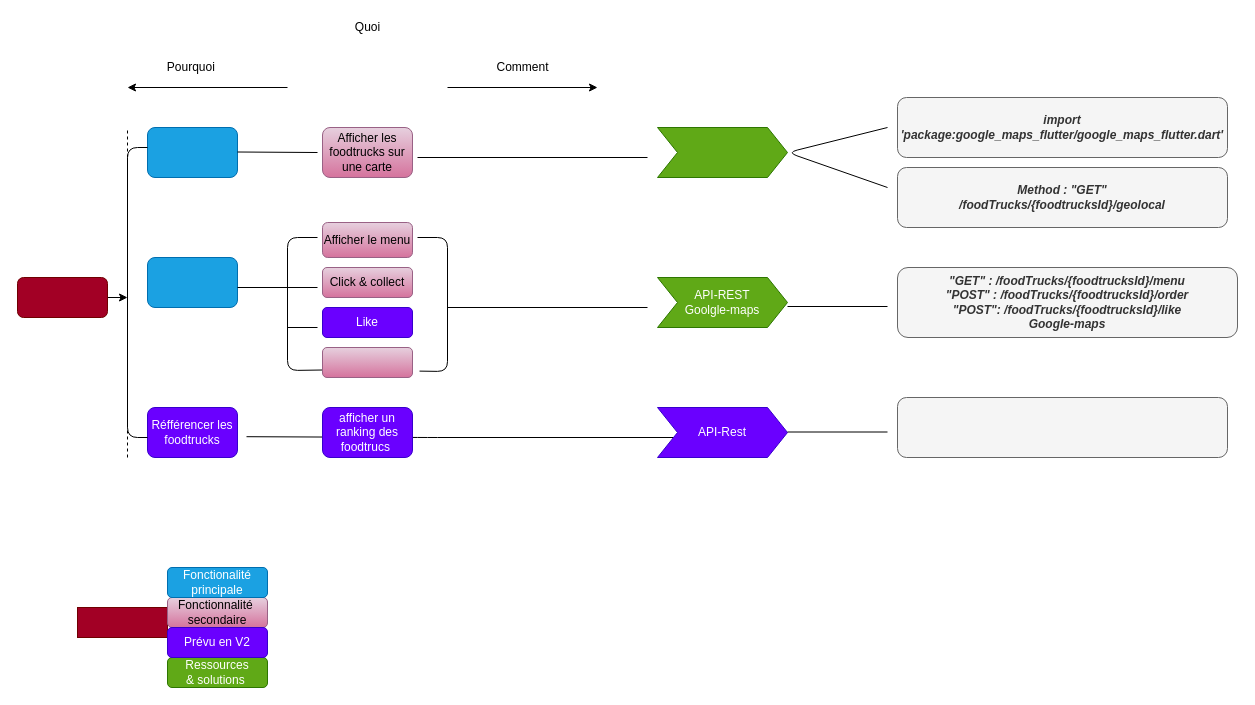
Some shapes in this 1255 by 705 pixel diagram are drawn without their labels. Here are the shapes that lost their labels. From the top down, the centre of each, then its label:
(192,152): Géolocaliser les foodtrucks
(722,152): Google maps SDK API-Rest
(62,297): Trouver des foodTruck
(192,282): Afficher les foodtrucks dans une liste
(367,362): Afficher l'itinéraire
(1062,427): "GET" : /foodTrucks/rank
(122,622): fonctionalité à satisfaire
